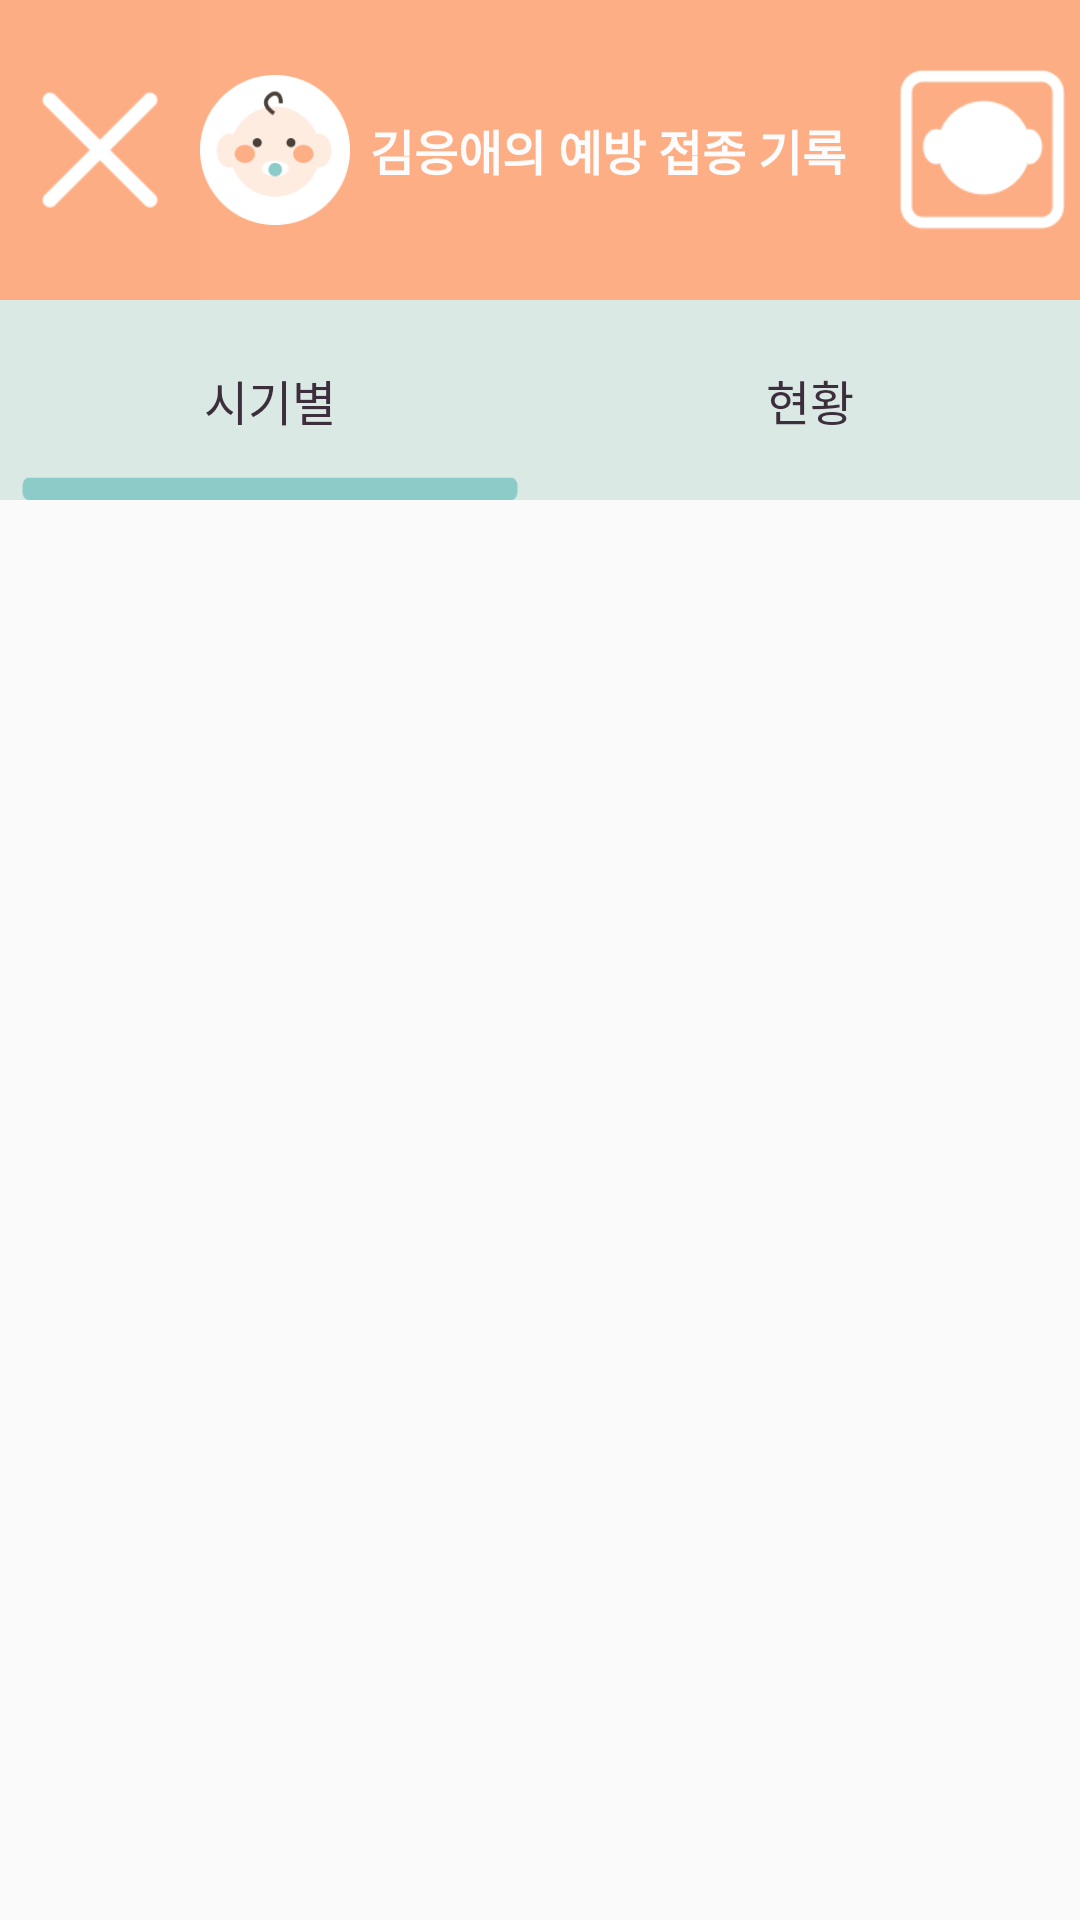

Icons on this 1080px x 1920px Android screen, each with the point to tap as point (x, y):
babyicon: point (275, 150)
